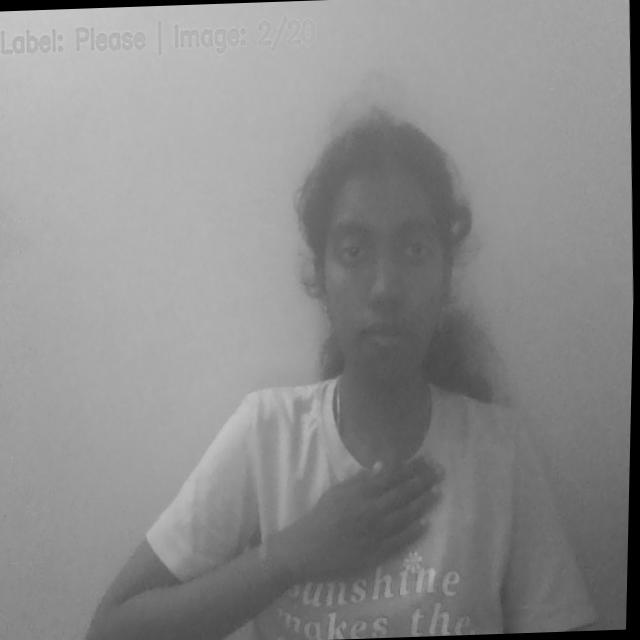Please: (223, 447, 458, 638)
